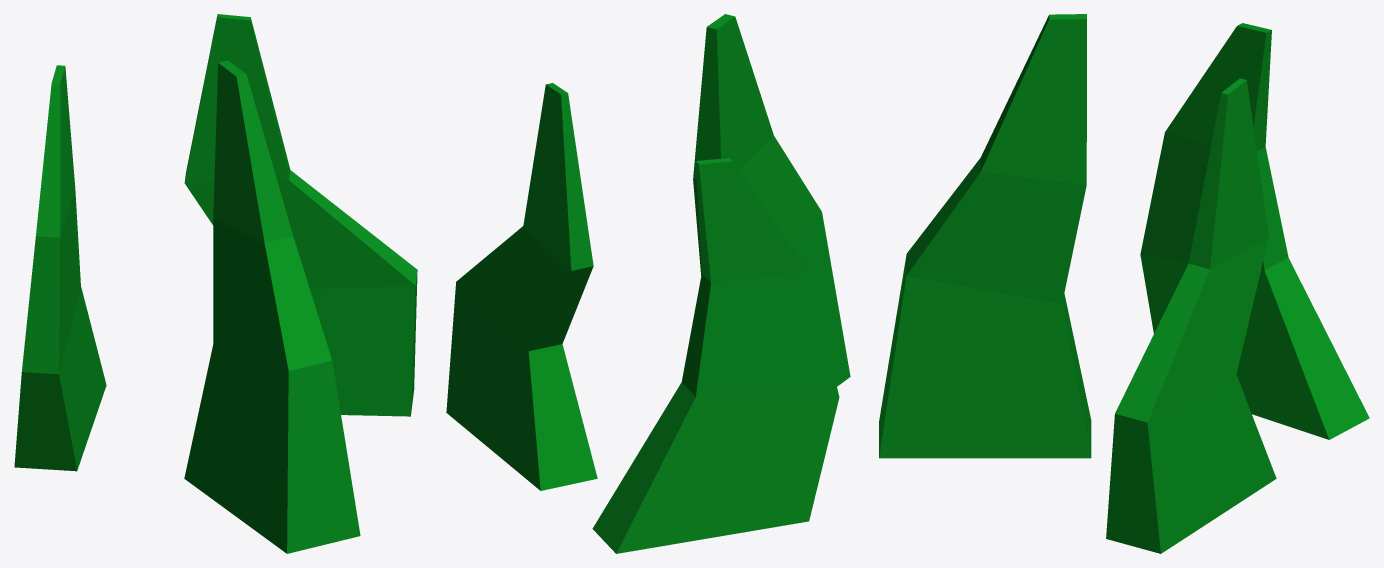
The model's file is Grass.fbx.
The picture shows the model from 3 angles, left to right: view 1: azimuth 30°, elevation 25°; view 2: azimuth 150°, elevation 25°; view 3: azimuth 270°, elevation 25°; orthographic projection. The views are drawn at different scales.
Visible parts, largest first — view 1: Cube.013; view 2: Cube.013; view 3: Cube.013.
Boxes of the visible parts, x1,y1,x2,y2 form: Cube.013: (14,14,417,553); Cube.013: (446,14,850,553); Cube.013: (879,14,1369,553).
Size of the model in its own units: 16.63 by 16.66 by 17.51.
